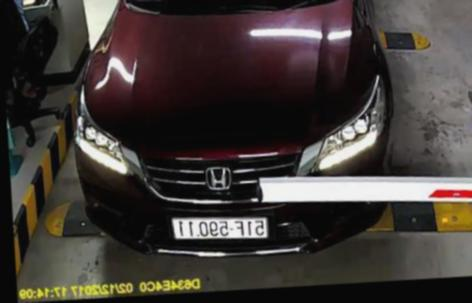License_Plate: (167, 212, 274, 242)
